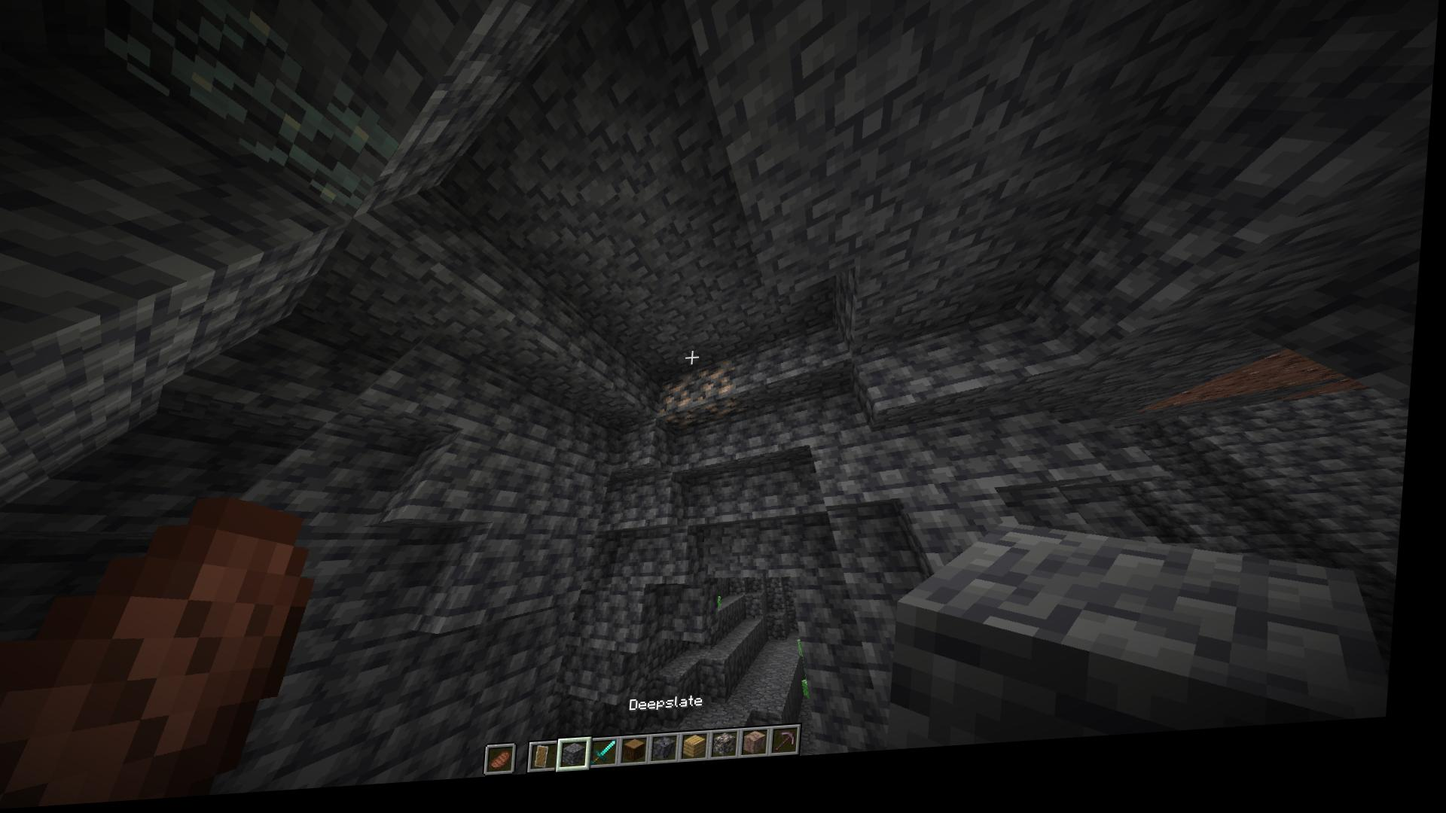iron ore: (699, 365, 743, 412), (667, 385, 706, 422), (711, 408, 747, 432), (672, 420, 709, 441)
